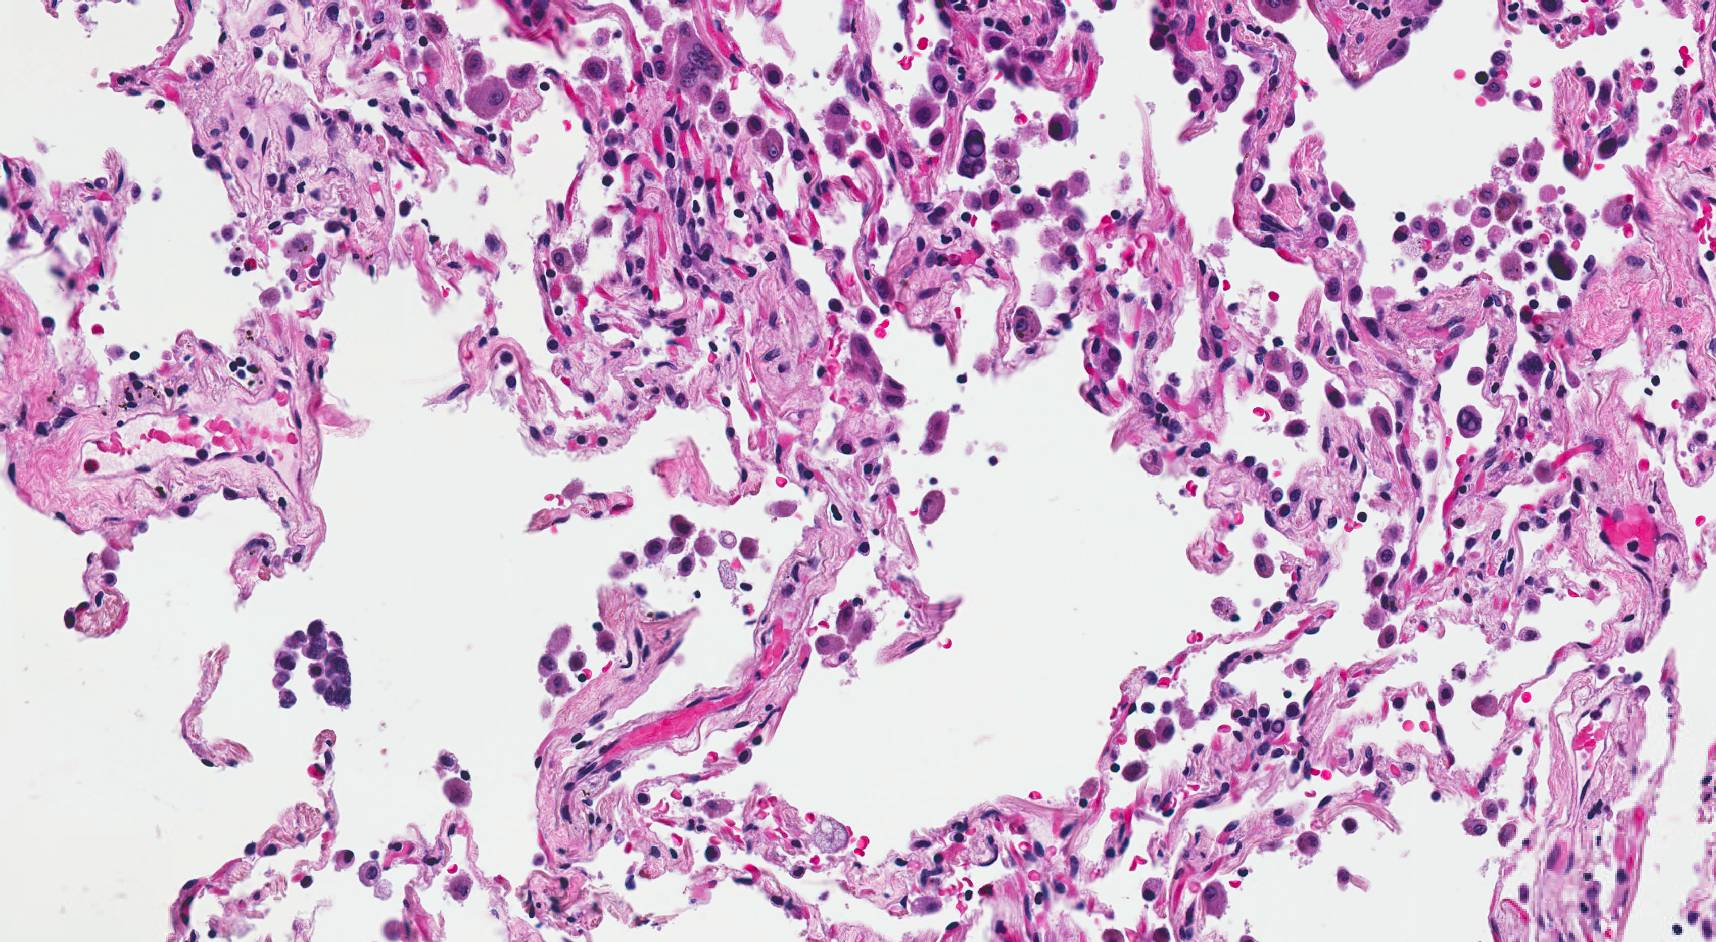stas: (274, 618, 355, 717), (957, 115, 993, 179)
